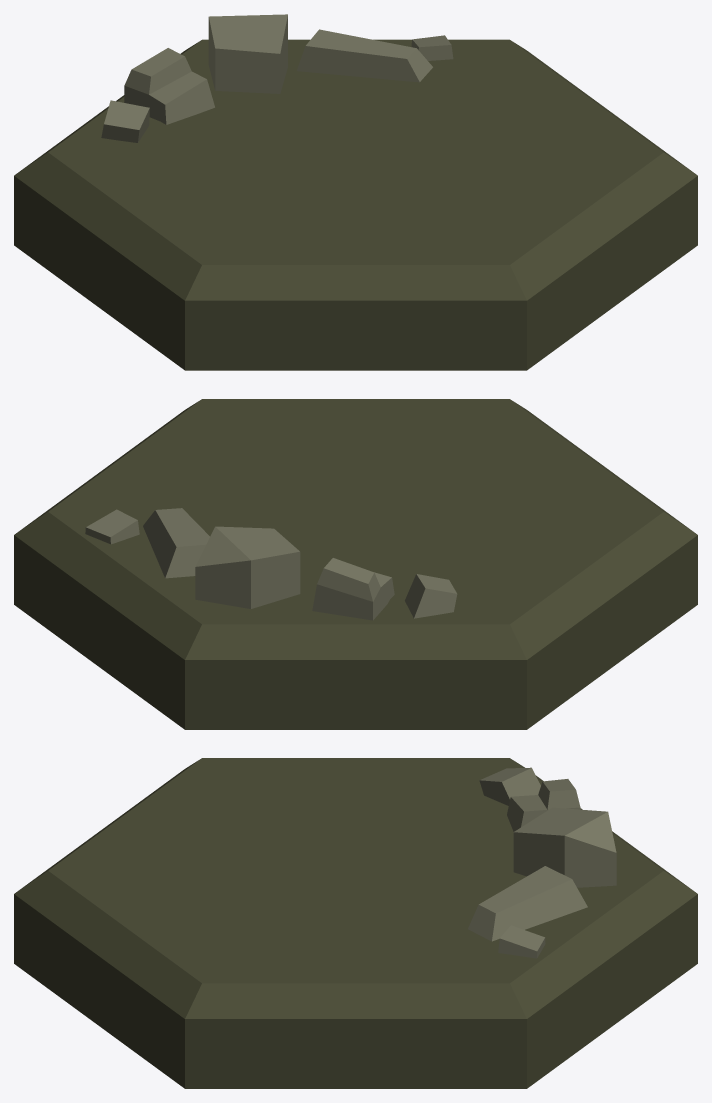
The model's file is GroundUnit(8).fbx.
The picture shows the model from 3 angles, top to bottom: view 1: azimuth 30°, elevation 25°; view 2: azimuth 150°, elevation 25°; view 3: azimuth 270°, elevation 25°; orthographic projection.
Parts seen in each view (by area): view 1: GroundUnit3; view 2: GroundUnit3; view 3: GroundUnit3.
Boxes of the visible parts, x1,y1,x2,y2 form: GroundUnit3: (14, 14, 697, 370); GroundUnit3: (14, 399, 697, 729); GroundUnit3: (14, 758, 697, 1088).
Bounding box in the file's own units: 1.73 × 2 × 0.4701.
